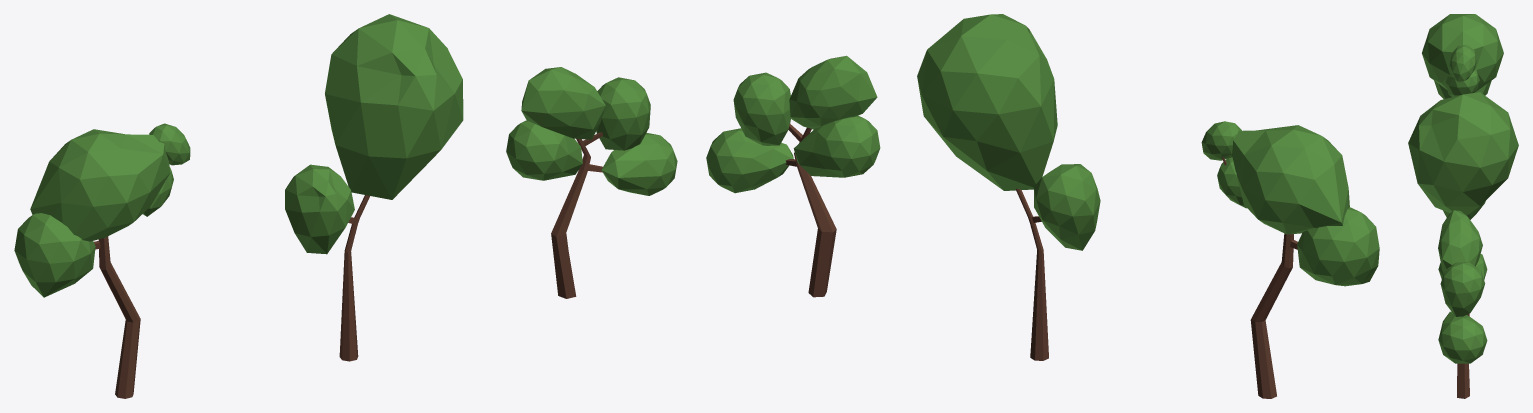
Rendered from TreeGreen.fbx.
The picture shows the model from 3 angles, left to right: view 1: azimuth 30°, elevation 25°; view 2: azimuth 150°, elevation 25°; view 3: azimuth 270°, elevation 25°; orthographic projection. The views are drawn at different scales.
Visible parts, largest first — view 1: Icosphere.004, Icosphere.002, Icosphere.009; view 2: Icosphere.004, Icosphere.002, Icosphere.009; view 3: Icosphere.004, Icosphere.009, Icosphere.002.
Boxes of the visible parts, left/top/right/bottom form: Icosphere.004: left=285, top=14, right=463, bottom=361; Icosphere.002: left=14, top=123, right=190, bottom=398; Icosphere.009: left=506, top=67, right=677, bottom=298; Icosphere.004: left=917, top=14, right=1100, bottom=360; Icosphere.002: left=1201, top=121, right=1379, bottom=398; Icosphere.009: left=706, top=55, right=880, bottom=297; Icosphere.004: left=1408, top=92, right=1518, bottom=316; Icosphere.009: left=1438, top=210, right=1487, bottom=398; Icosphere.002: left=1422, top=14, right=1503, bottom=98.
Bounding box in the file's own units: 7860 × 3751 × 1533.
